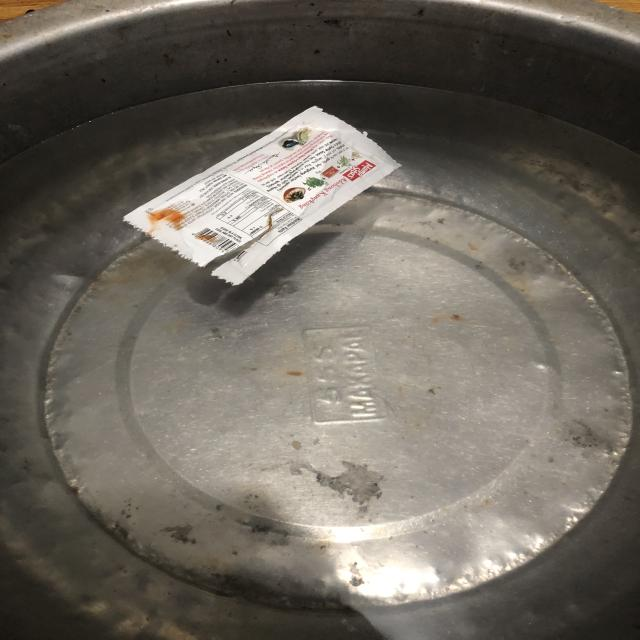Plastic Wrapper: (96, 91, 377, 293)
